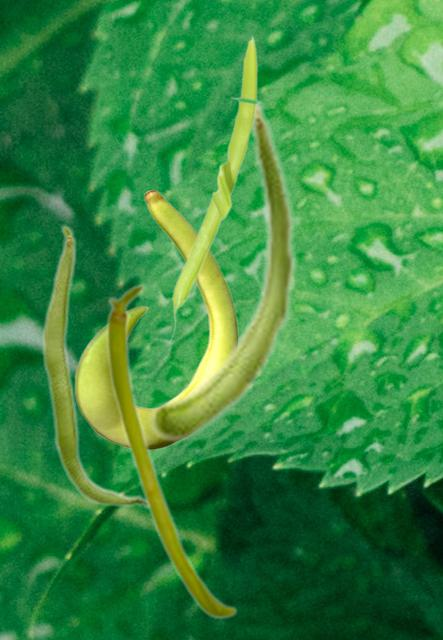french_bean: (148, 99, 297, 442), (105, 282, 237, 619), (74, 189, 238, 449), (40, 223, 146, 509), (168, 32, 260, 343)
